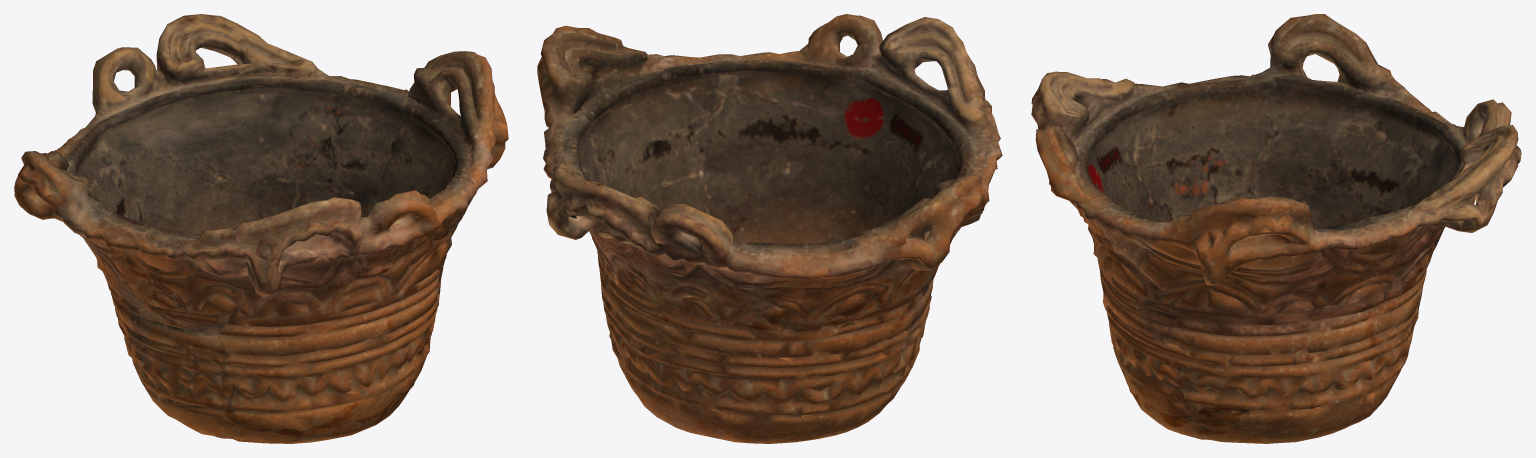
3 views of the same model, side by side, from view 1: azimuth 30°, elevation 25°; view 2: azimuth 150°, elevation 25°; view 3: azimuth 270°, elevation 25° (orthographic). The views are drawn at different scales.
Visible parts, largest first — view 1: SK0004_low; view 2: SK0004_low; view 3: SK0004_low.
Boxes of the visible parts, left/top/right/bottom form: SK0004_low: left=14, top=14, right=508, bottom=443; SK0004_low: left=537, top=14, right=1002, bottom=443; SK0004_low: left=1031, top=14, right=1521, bottom=443.
Bounding box in the file's own units: 221 × 142 × 212.
1 material, 1 textured.
